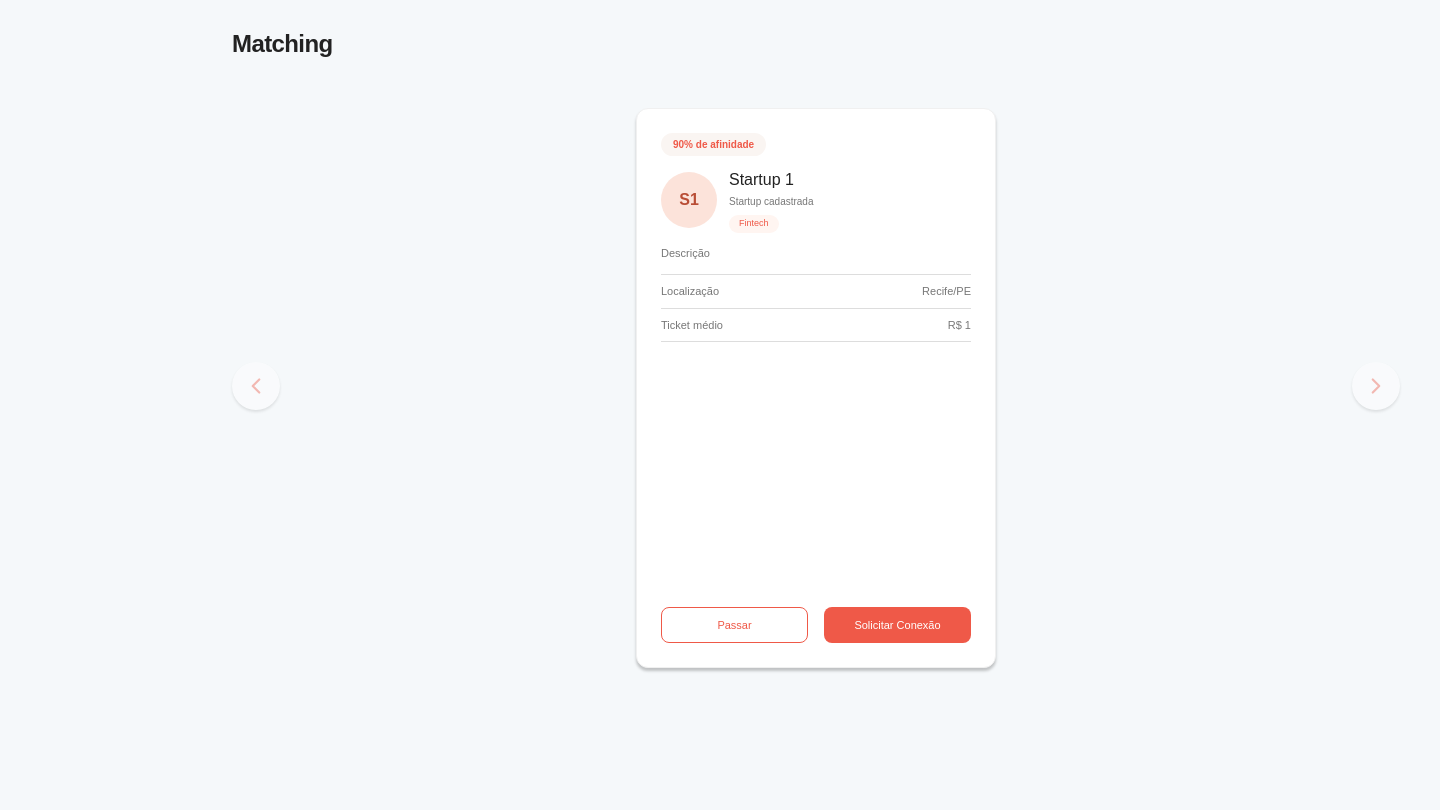
Scenario: matching › decisão remove o cartão e mostra o retorno
Click the button "Solicitar Conexão". click: (898, 625)
box: [824,607,971,643]
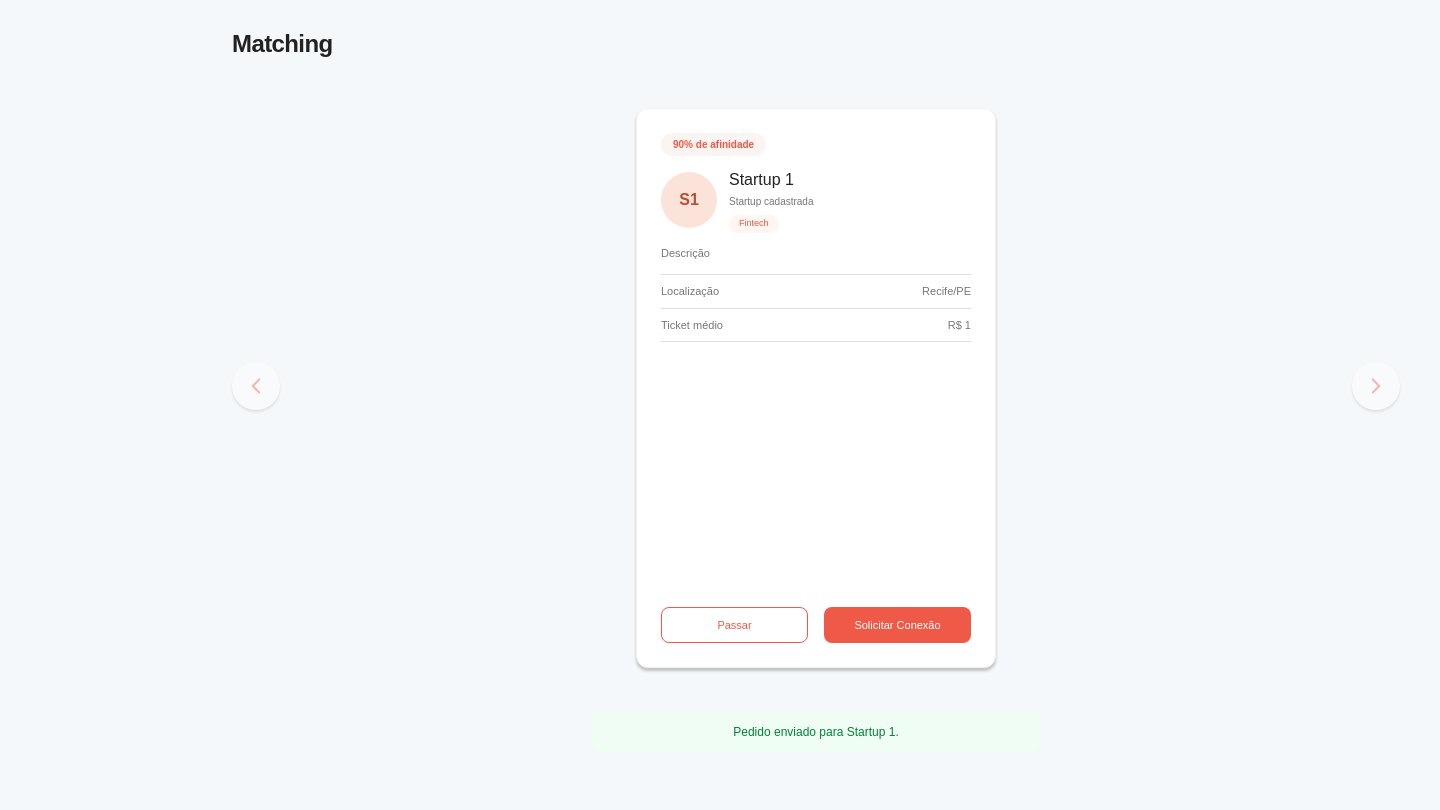
Result: the text "Pedido enviado para Startup 1." is shown at [592,712,1040,752]
